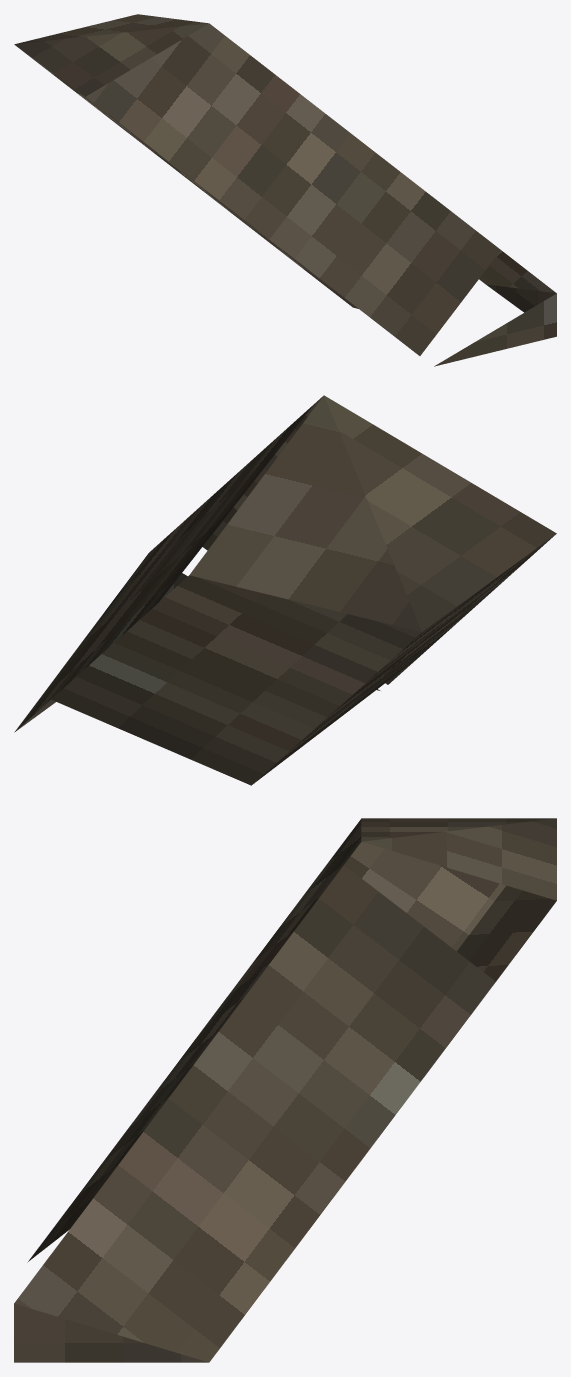
File: oak_branch_45_diagonal.obj
The picture shows the model from 3 angles, top to bottom: view 1: azimuth 30°, elevation 25°; view 2: azimuth 150°, elevation 25°; view 3: azimuth 270°, elevation 25°; orthographic projection. The views are drawn at different scales.
Parts seen in each view (by area): view 1: cube; view 2: cube; view 3: cube.
Boxes of the visible parts, bbox=[...] form: cube: bbox=[14, 14, 556, 366]; cube: bbox=[14, 395, 556, 785]; cube: bbox=[14, 818, 556, 1362].
Size of the model in its own units: 1.56 by 1.19 by 1.56.
